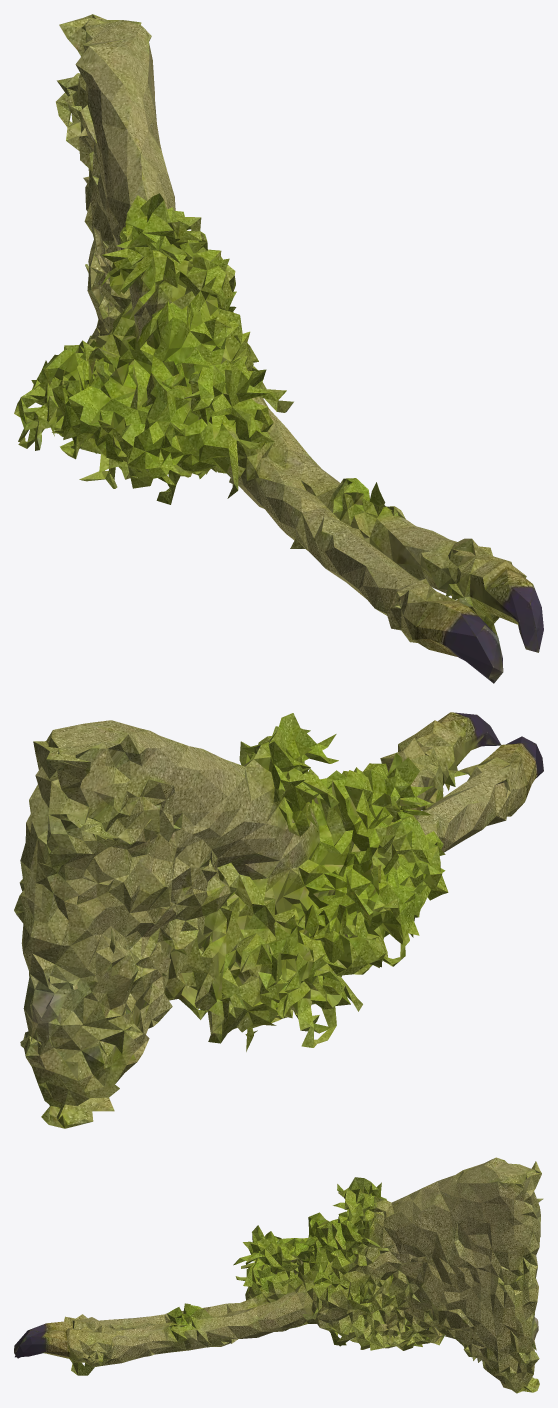
Rendered from foot (64).glb.
The picture shows the model from 3 angles, top to bottom: view 1: azimuth 30°, elevation 25°; view 2: azimuth 150°, elevation 25°; view 3: azimuth 270°, elevation 25°; orthographic projection. The views are drawn at different scales.
Visible parts, largest first — view 1: Hy21_Mesh.obj; view 2: Hy21_Mesh.obj; view 3: Hy21_Mesh.obj.
Boxes of the visible parts, x1=… form: Hy21_Mesh.obj: x1=14, y1=14, x2=543, y2=683; Hy21_Mesh.obj: x1=14, y1=712, x2=543, y2=1128; Hy21_Mesh.obj: x1=14, y1=1157, x2=543, y2=1393.
Size of the model in its own units: 0.607 by 0.8989 by 1.95.
Materials: 1 (1 with a texture image).
